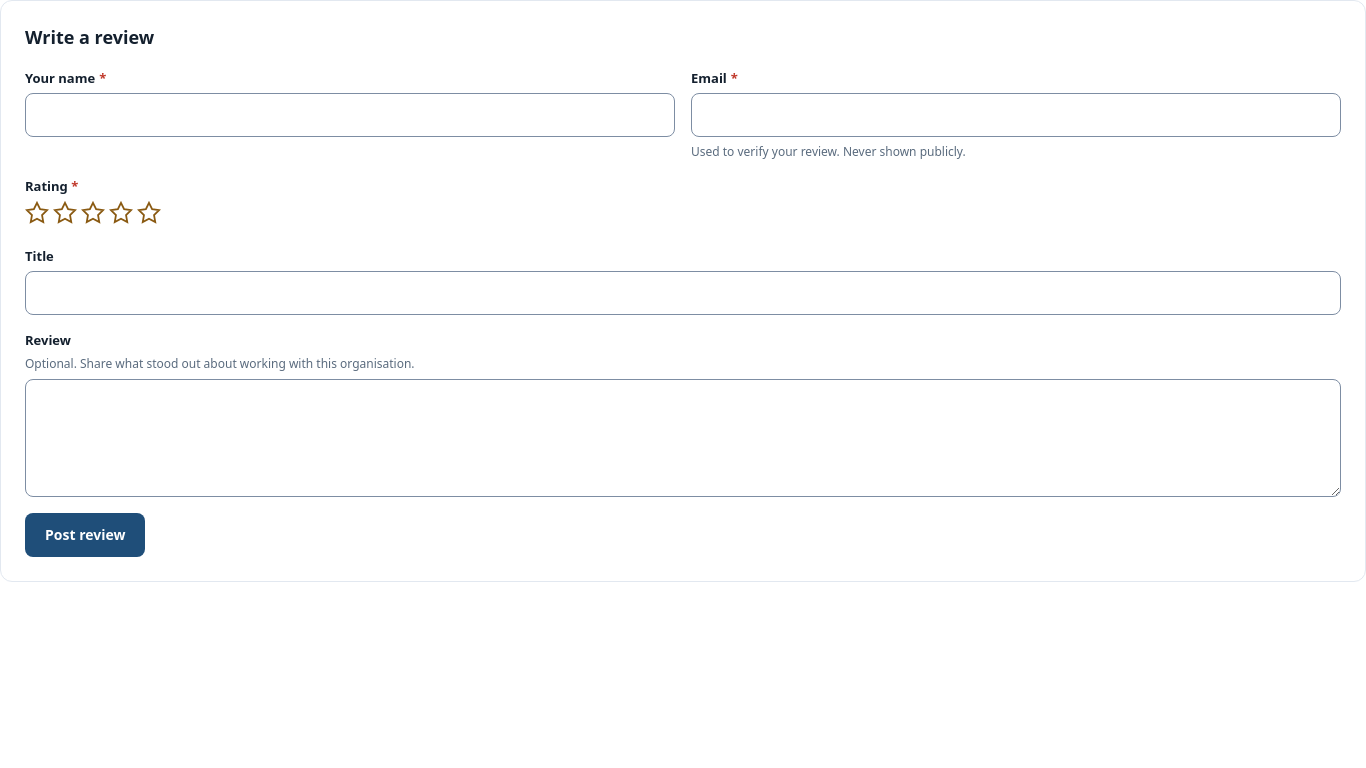
Scenario: ReviewForm › surfaces a friendly message when throttled (429)
In the field labelled "Your name*": (350, 116) [25,94,675,138], type "Jo"
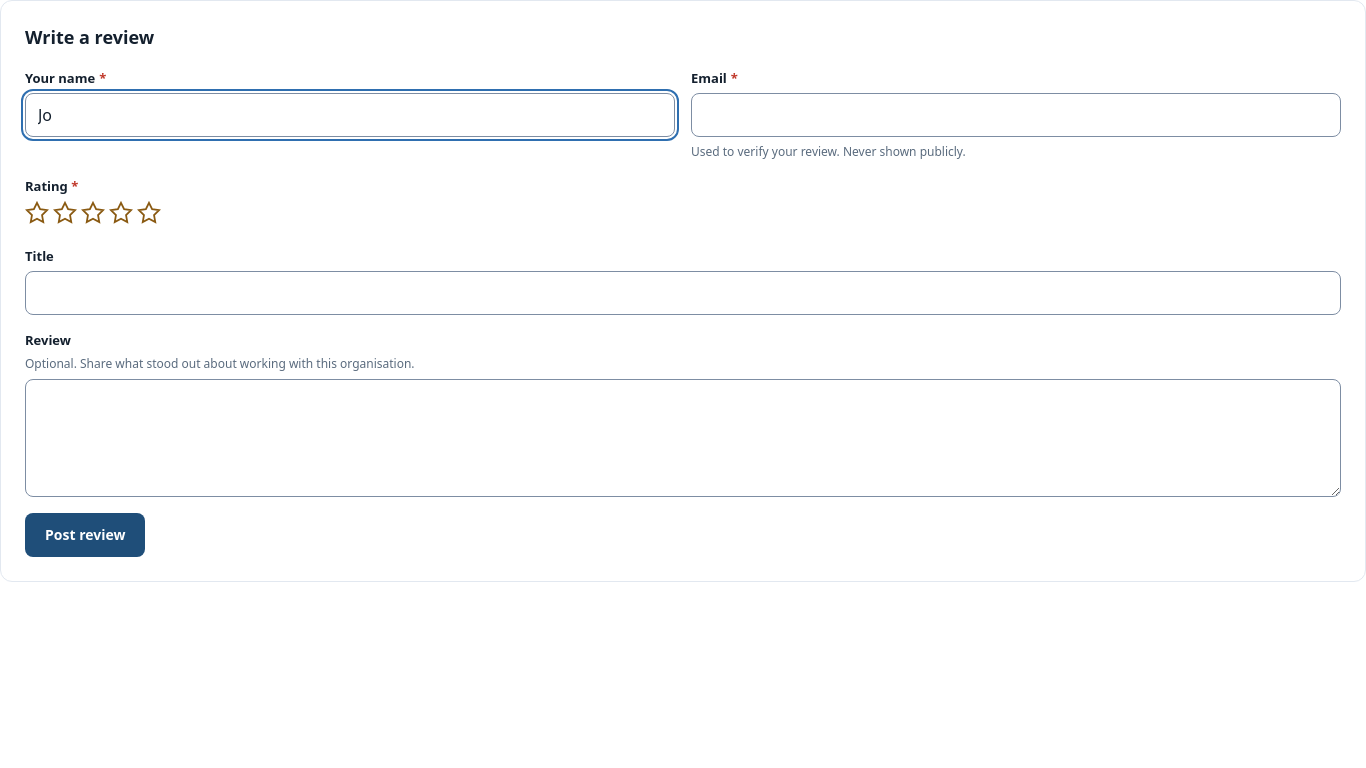
In the field labelled "Email*": (1016, 116) [691,94,1341,138], type "jo@example.com"
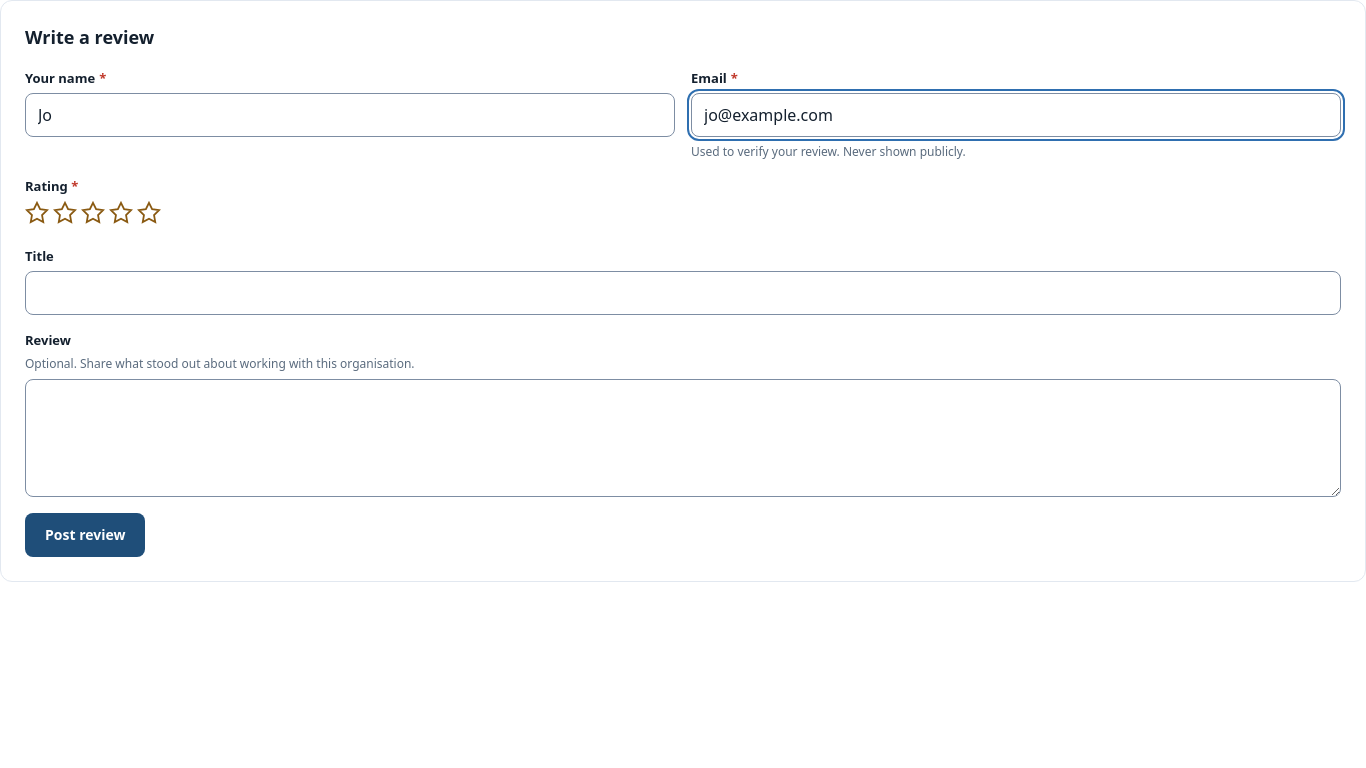
Click the radio button named "4 out of 5": (121, 213) [109,201,133,225]
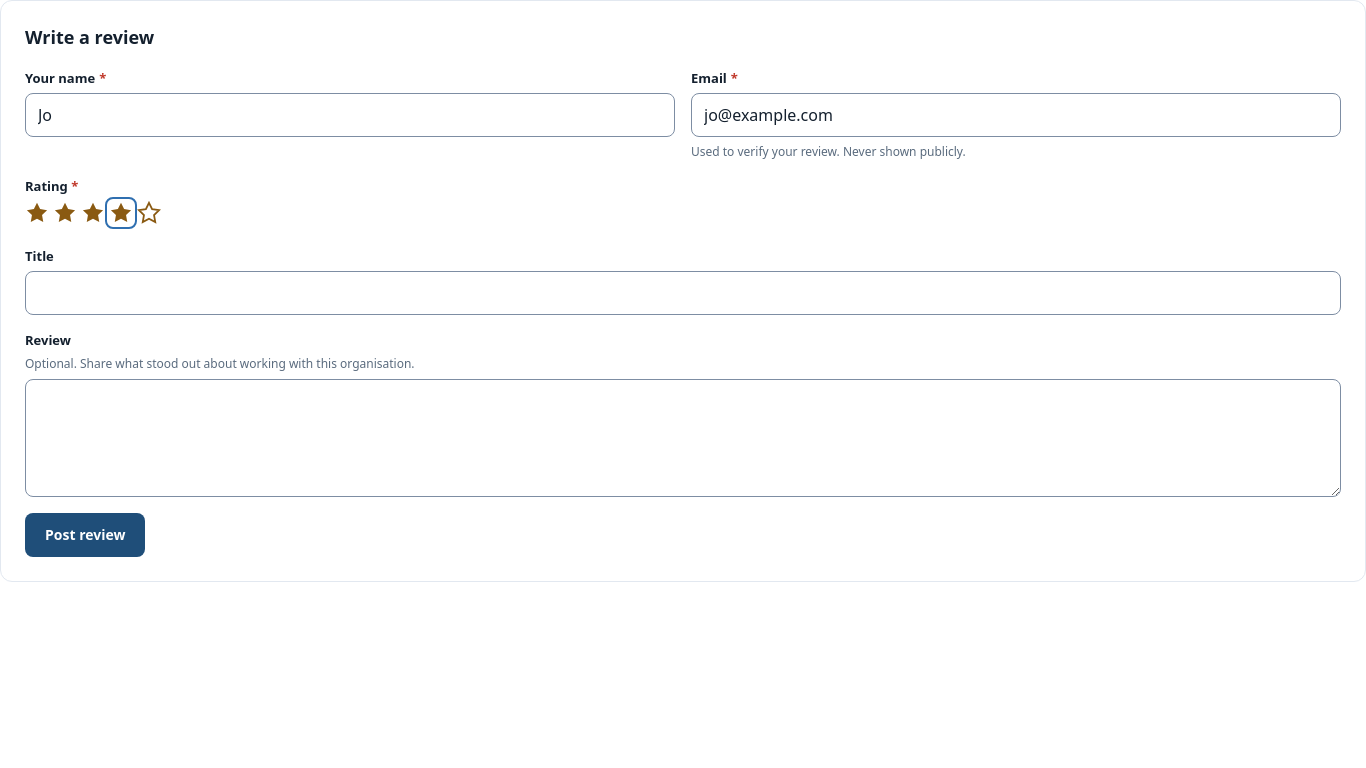
Click the button "Post review": (85, 535) [25,513,145,557]
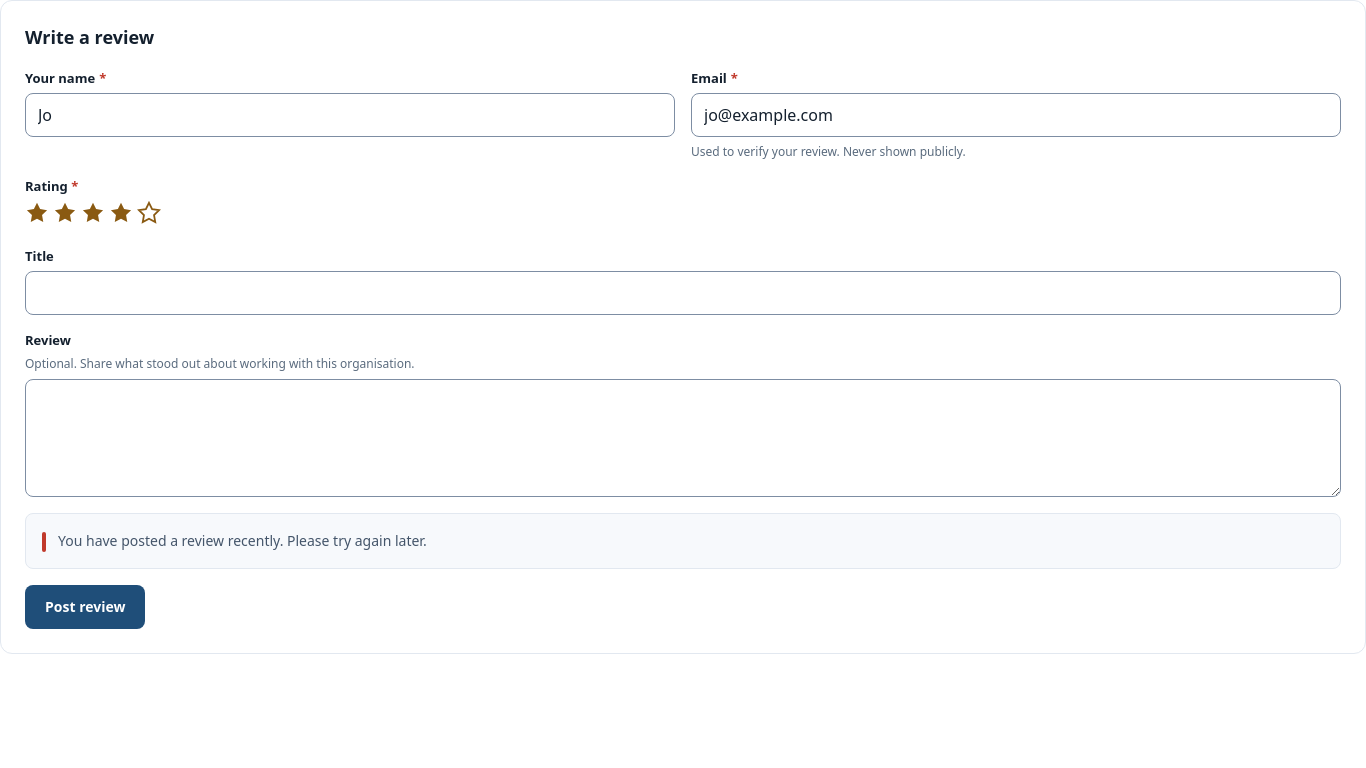
Expected: the text "You have posted a review recently. Please try again later." is shown, [58,531,427,550]
